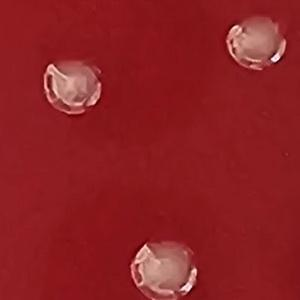colony: (124, 238, 205, 300), (39, 55, 109, 120), (223, 12, 290, 72)
